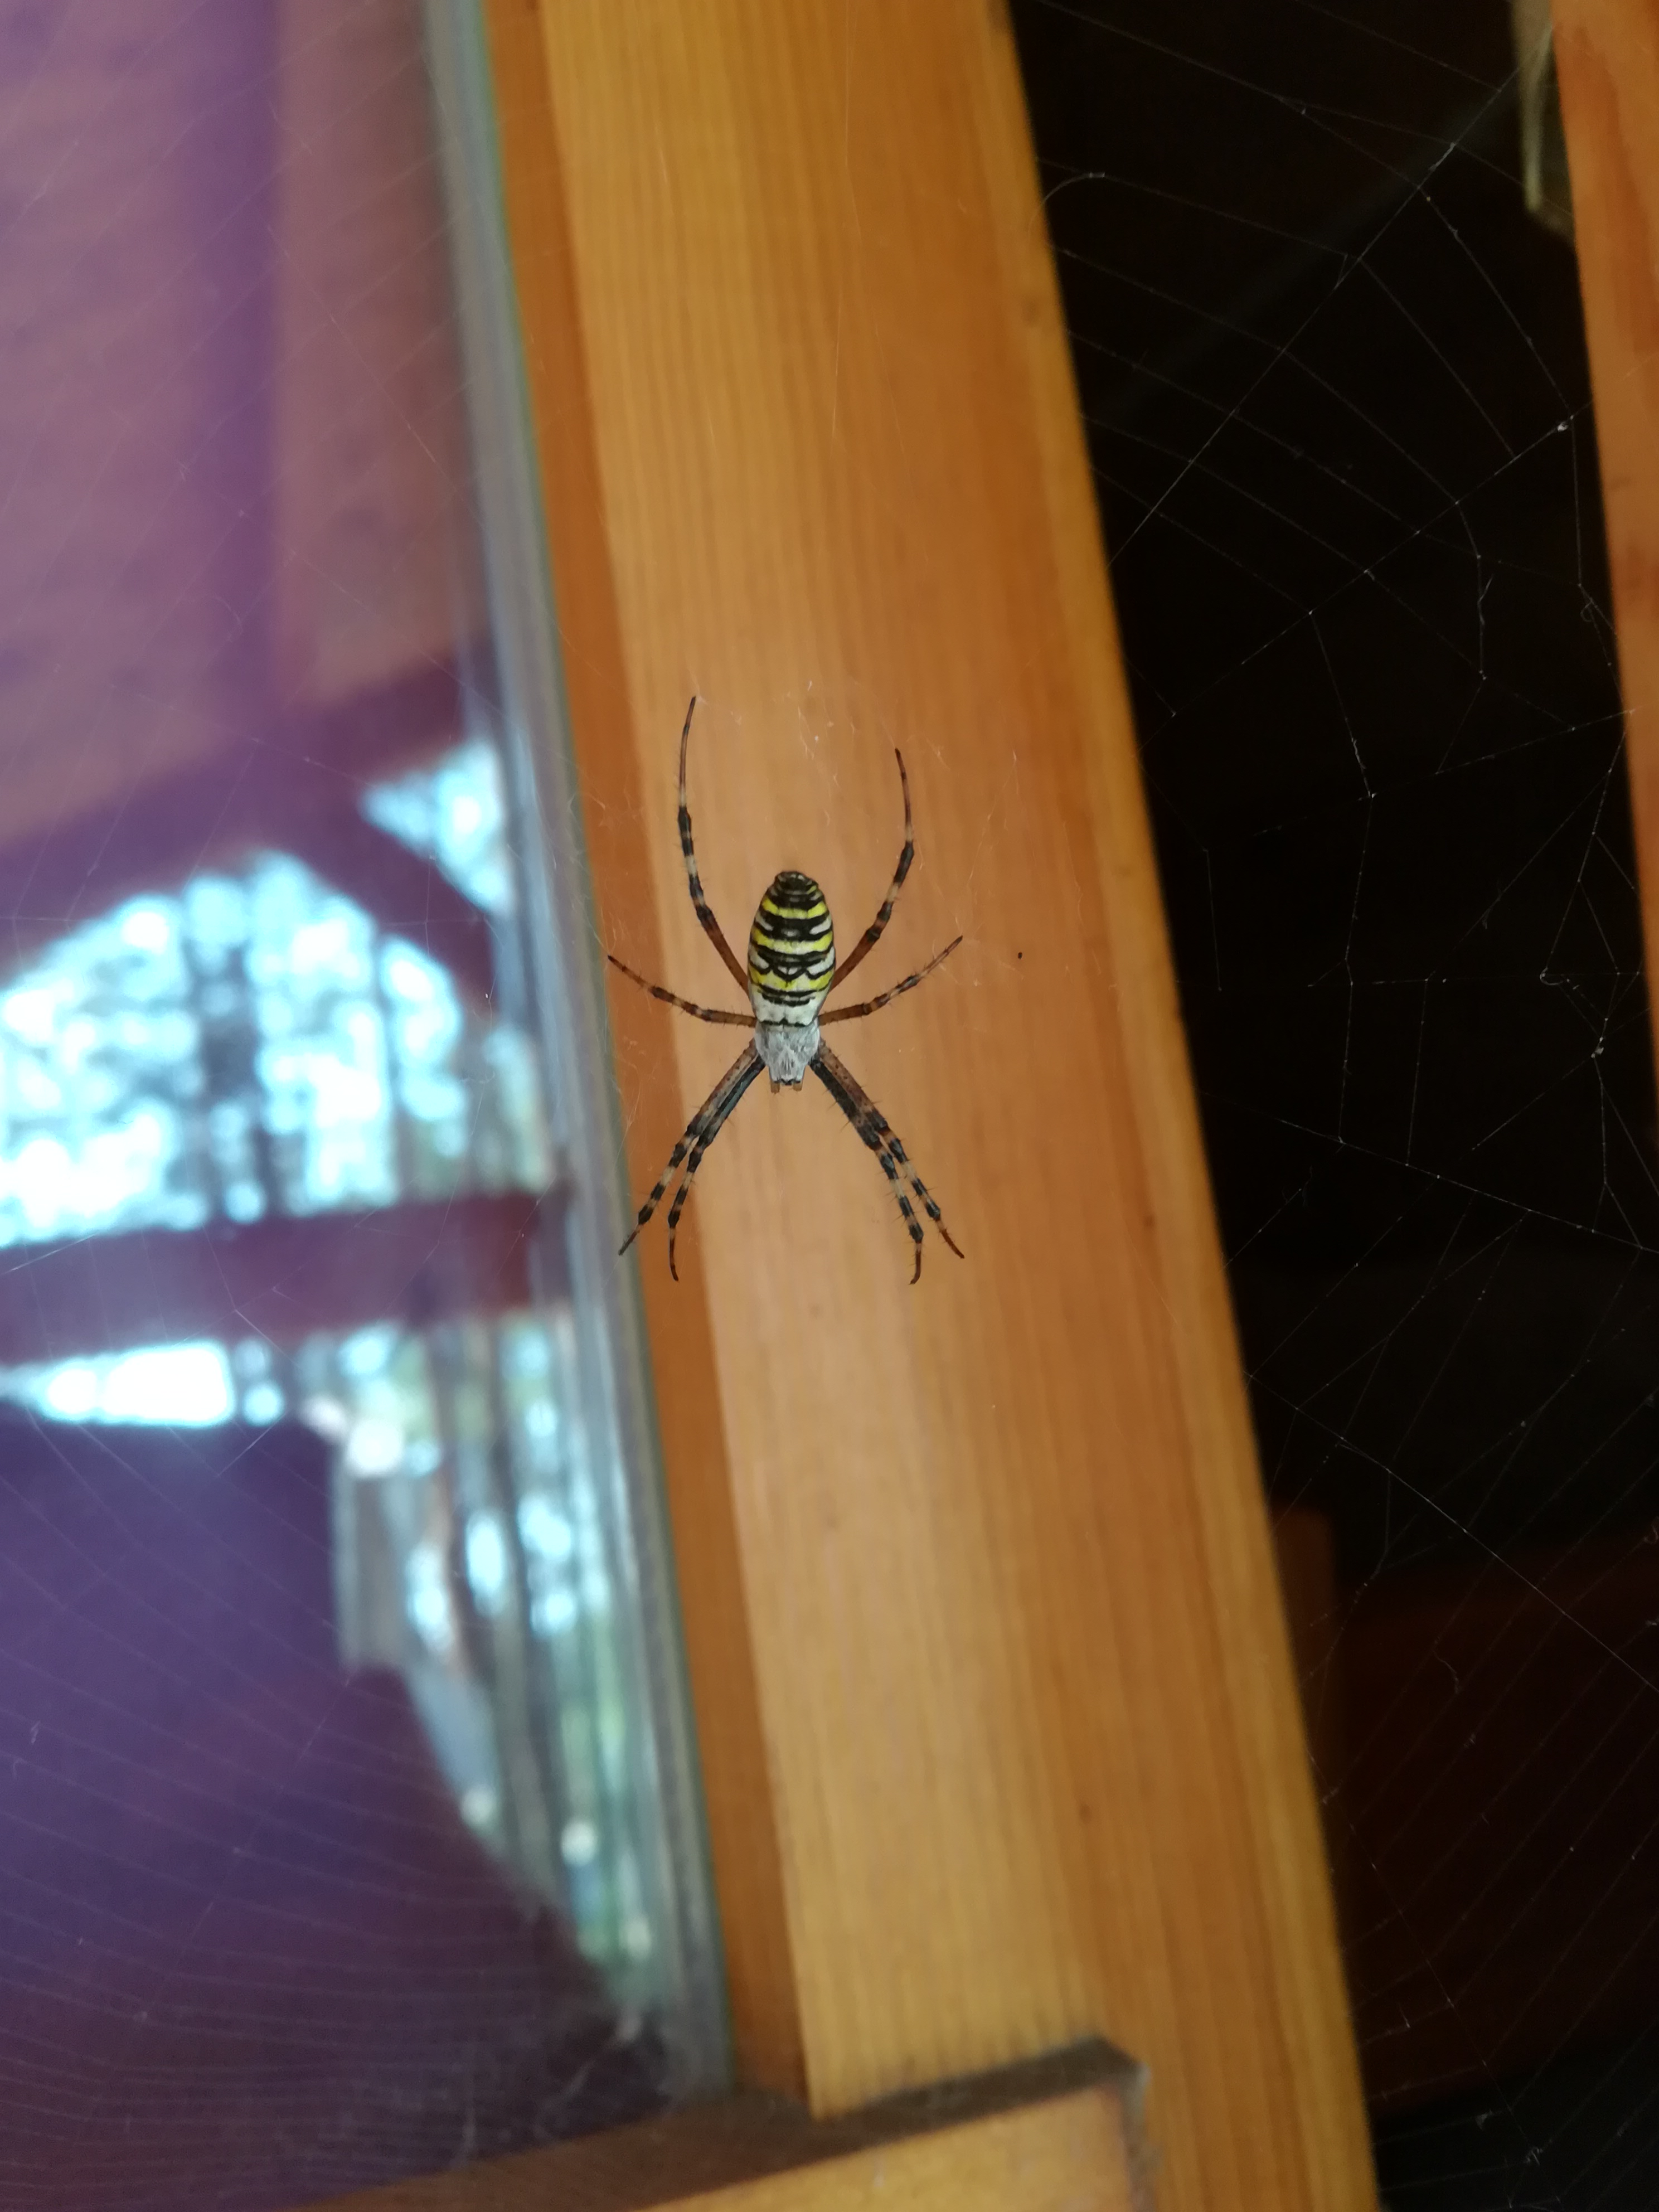spider: (565, 695, 1028, 1303)
